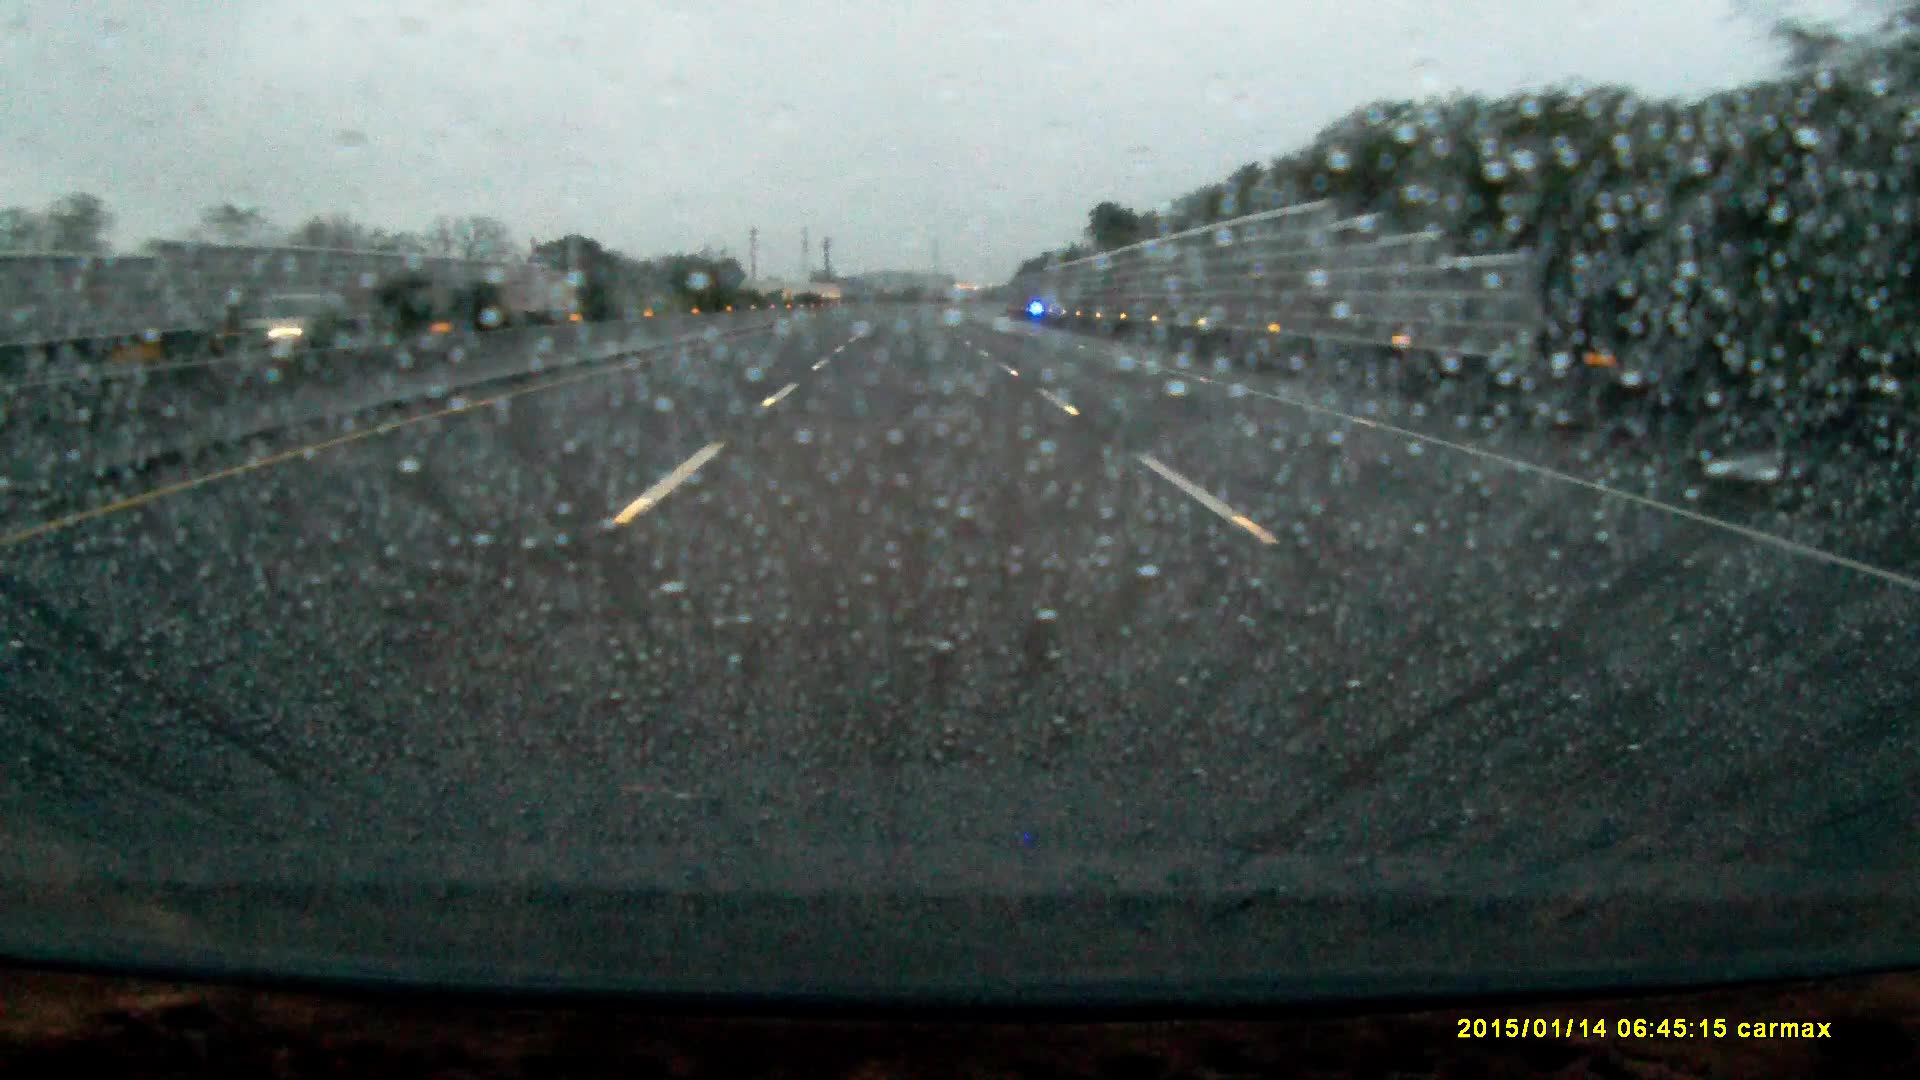vehicle: (232, 291, 335, 344)
